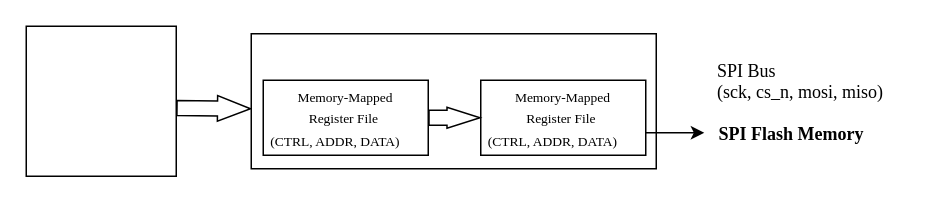
The diagram is 936 pixels wide and 203 high, and some of its shapes have lost their labels. The box of each missing label's shape, as (x1, y1, x2, y2) in pixels:
AXI_LITE_SPI_CONTROLLER: (250, 32, 656, 169)
CPU / AXI Master Host (Testbench Task)) -Read/Write: (25, 25, 176, 176)
